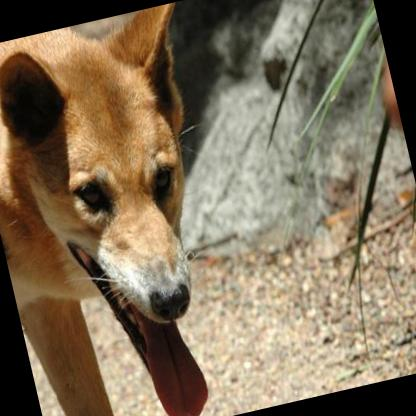dingo: (0, 3, 266, 416)
